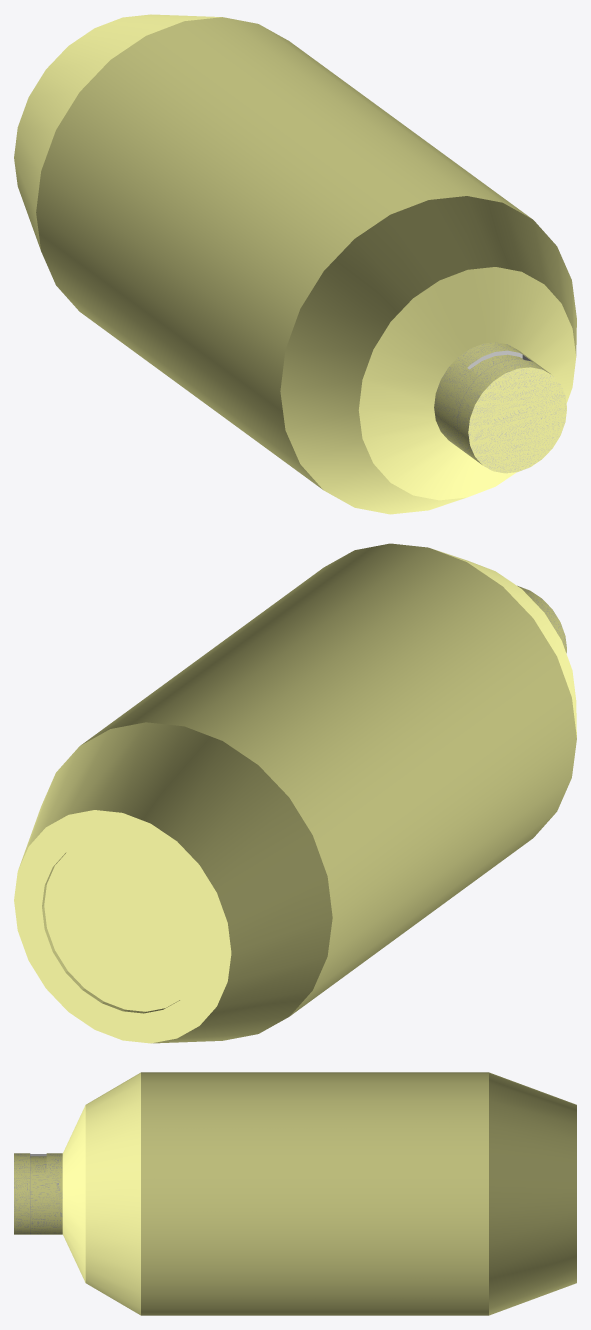
Rendered from model_scale.obj.
3 views of the same model, one above another, from view 1: azimuth 30°, elevation 25°; view 2: azimuth 150°, elevation 25°; view 3: azimuth 270°, elevation 25° (orthographic). The views are drawn at different scales.
Parts seen in each view (by area): view 1: mesh1_mesh1-geometry, mesh7_mesh7-geometry; view 2: mesh1_mesh1-geometry; view 3: mesh1_mesh1-geometry, mesh7_mesh7-geometry.
Boxes of the visible parts, x1,y1,x2,y2 form: mesh1_mesh1-geometry: [14, 14, 576, 514]; mesh7_mesh7-geometry: [434, 342, 566, 473]; mesh1_mesh1-geometry: [14, 543, 576, 1043]; mesh1_mesh1-geometry: [62, 1072, 576, 1315]; mesh7_mesh7-geometry: [14, 1153, 62, 1234].
Bounding box in the file's own units: 0.0788 × 0.0788 × 0.1817.
